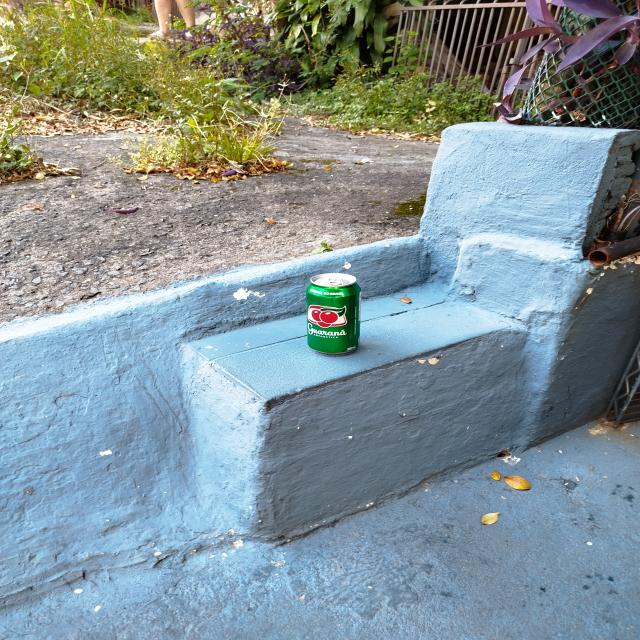Guarana: (303, 274, 362, 354)
